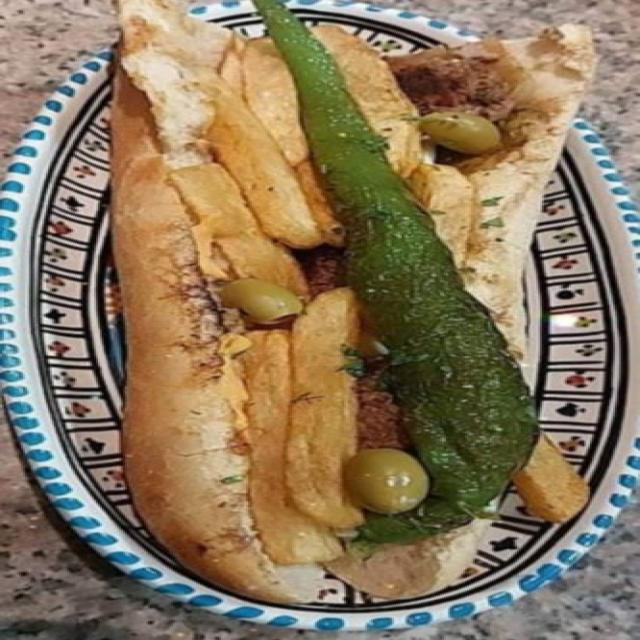Sandwitch tounsi: (132, 24, 612, 600)
